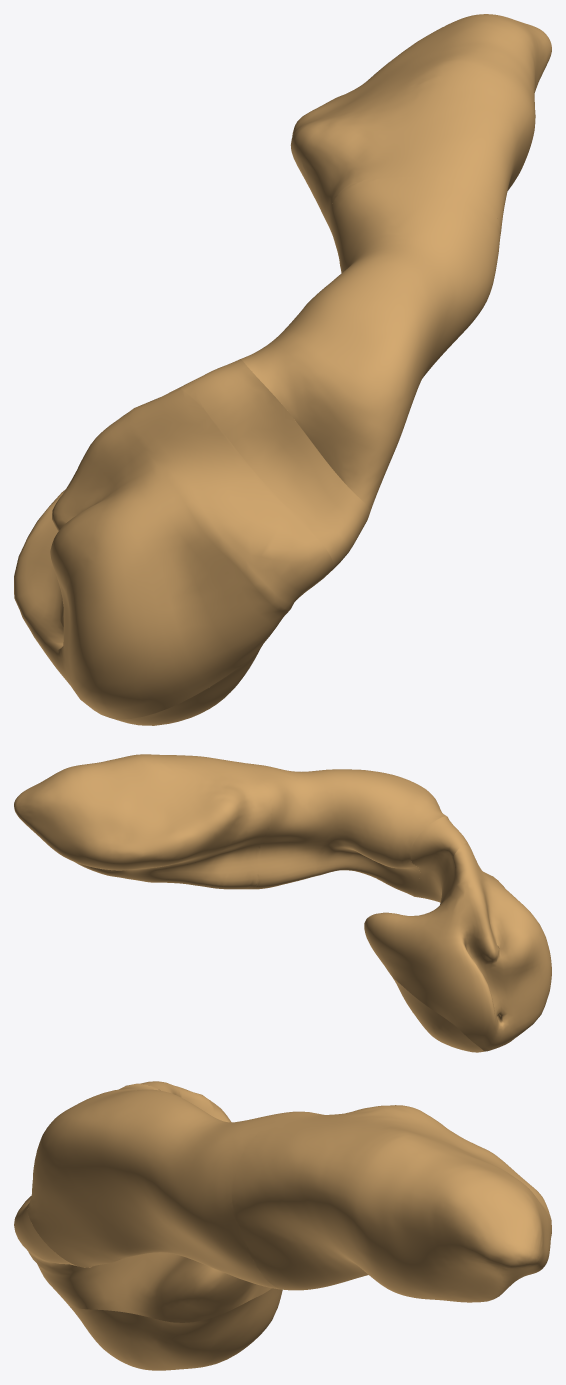
The model's file is explorar-pancreas.glb.
3 views of the same model, one above another, from view 1: azimuth 30°, elevation 25°; view 2: azimuth 150°, elevation 25°; view 3: azimuth 270°, elevation 25° (orthographic). The views are drawn at different scales.
Visible parts, largest first — view 1: pancreas__cabeza, pancreas__cuerpo, pancreas__cola, pancreas__cuello, pancreas__proceso_unciforme; view 2: pancreas__cola, pancreas__cabeza, pancreas__cuerpo, pancreas__cuello, pancreas__proceso_unciforme; view 3: pancreas__cola, pancreas__cuerpo, pancreas__cabeza, pancreas__proceso_unciforme, pancreas__cuello.
Part boxes in pixels (box(x1,y1,x2,y2)): pancreas__cabeza: box(14, 388, 333, 719); pancreas__cuerpo: box(241, 177, 500, 515); pancreas__cola: box(290, 14, 551, 235); pancreas__cuello: box(178, 359, 369, 569); pancreas__proceso_unciforme: box(111, 645, 262, 725); pancreas__cola: box(14, 754, 271, 889); pancreas__cabeza: box(364, 843, 551, 1051); pancreas__cuerpo: box(242, 762, 446, 896); pancreas__cuello: box(410, 816, 467, 902); pancreas__proceso_unciforme: box(391, 975, 484, 1052); pancreas__cola: box(232, 1105, 551, 1302); pancreas__cuerpo: box(28, 1083, 299, 1289); pancreas__cabeza: box(14, 1086, 271, 1322); pancreas__proceso_unciforme: box(70, 1288, 282, 1370); pancreas__cuello: box(14, 1081, 180, 1267).
Bounding box in the file's own units: 0.1114 × 0.072 × 0.0836.
